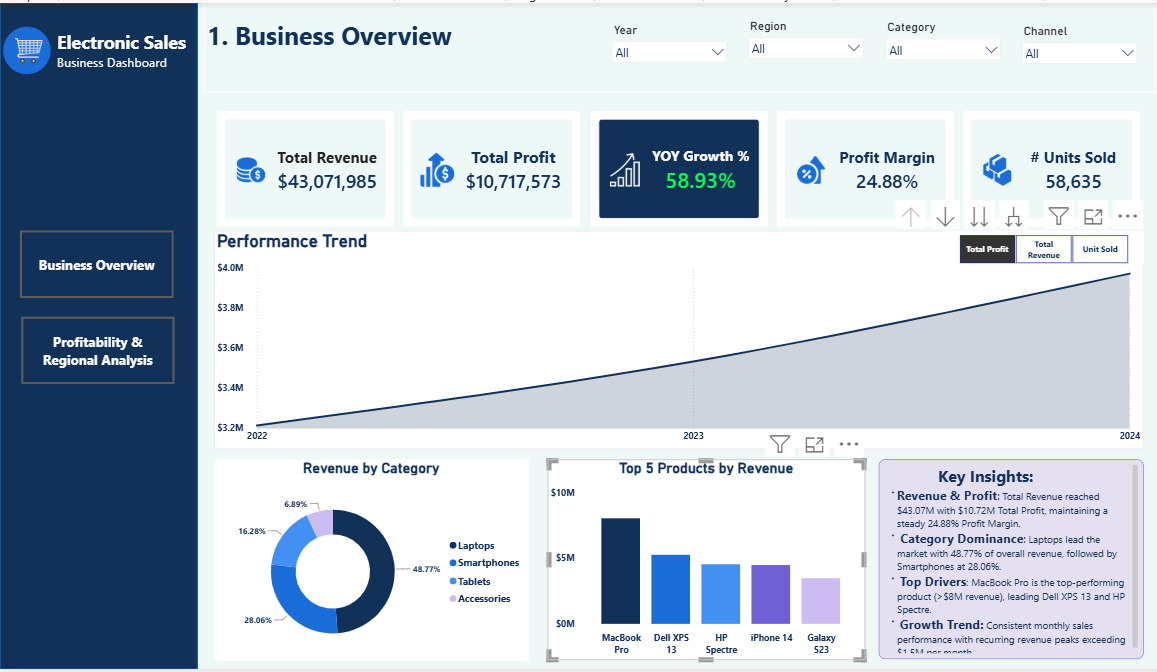

What the dashboard file says about the page in this screenshot:
{"tool":"powerbi","page":{"name":"Business Overview ","canvas":[1750,1000],"ordinal":0},"visuals":[{"type":"shape","box":[0,0,296.4,999.9],"z":0},{"type":"shape","box":[305.8,0,1429.6,135.1],"z":1000},{"type":"image","box":[0,35.6,80.7,71.3],"z":2000},{"type":"textbox","box":[80.7,35.6,215.7,116.3],"z":3000},{"type":"textbox","box":[305.8,18.8,420.2,88.2],"z":4000},{"type":"slicer","fields":{"Values":["Calender_tbl.Year"]},"box":[908,23.8,193.2,101.3],"z":5000},{"type":"slicer","fields":{"Values":["Data.Region"]},"box":[1113.1,18.8,193.2,101.3],"z":6000},{"type":"slicer","fields":{"Values":["Data.Category"]},"box":[1318.3,21.3,193.2,101.3],"z":7000},{"type":"slicer","fields":{"Values":["Data.Sales Channel"]},"box":[1523.4,26.3,193.2,101.3],"z":8000},{"type":"cardVisual","fields":{"Data":["Measures_tbl.Total Revenue"]},"box":[320.8,157.6,275.8,183.9],"z":9000},{"type":"cardVisual","fields":{"Data":["Measures_tbl.YOY Growth %"]},"box":[880.8,157.6,275.8,183.9],"z":10000},{"type":"cardVisual","fields":{"Data":["Measures_tbl.Total Profit"]},"box":[600.8,157.6,275.8,183.9],"z":11000},{"type":"cardVisual","fields":{"Data":["Measures_tbl.Prrofit Margin"]},"box":[1160.8,157.6,275.8,183.9],"z":12000},{"type":"cardVisual","fields":{"Data":["Measures_tbl.Unit Sold"]},"box":[1440.8,157.6,275.8,183.9],"z":13000},{"type":"areaChart","title":"Performance Trend ","fields":{"Category":["Calender_tbl.Year","Calender_tbl.Quarter","Calender_tbl.Month","Calender_tbl.Day"],"Y":["Measures_tbl.Total Profit"]},"box":[320.8,341.4,1395.8,328.3],"z":14000},{"type":"donutChart","title":"Revenue by Category","fields":{"Category":["Data.Category"],"Y":["Measures_tbl.Total Revenue"]},"box":[320.8,684.8,472.8,302],"z":15000},{"type":"columnChart","title":"Top 5 Products by Revenue","fields":{"Category":["Data.Product Name"],"Y":["Measures_tbl.Total Revenue"]},"box":[821.7,684.8,476.5,302],"z":16000},{"type":"textbox","box":[1318.9,684.8,397.7,300.2],"z":17000},{"type":"actionButton","title":"Business Overview ","box":[30,341.4,230.8,101.3],"z":18000},{"type":"actionButton","box":[31.9,470.9,230,101],"z":19000},{"type":"slicer","fields":{"Values":["Select Metric.Select Metric"]},"box":[1414.6,341.4,302,50.7],"z":20000}]}

Visuals, with their boxes on the page's 1750x1000 design canvas (x1, y1, x2, y2). These are canvas units, not pixel positions in the 1157x672 screenshot, which may show the page scaled, cropped or inside an application window:
shape: 0:0:296:1000
shape: 306:0:1735:135
image: 0:36:81:107
textbox: 81:36:296:152
textbox: 306:19:726:107
slicer - Calender_tbl.Year: 908:24:1101:125
slicer - Data.Region: 1113:19:1306:120
slicer - Data.Category: 1318:21:1512:123
slicer - Data.Sales Channel: 1523:26:1717:128
cardVisual - Measures_tbl.Total Revenue: 321:158:597:342
cardVisual - Measures_tbl.YOY Growth %: 881:158:1157:342
cardVisual - Measures_tbl.Total Profit: 601:158:877:342
cardVisual - Measures_tbl.Prrofit Margin: 1161:158:1437:342
cardVisual - Measures_tbl.Unit Sold: 1441:158:1717:342
"Performance Trend " areaChart: 321:341:1717:670
"Revenue by Category" donutChart: 321:685:794:987
"Top 5 Products by Revenue" columnChart: 822:685:1298:987
textbox: 1319:685:1717:985
"Business Overview " actionButton: 30:341:261:443
actionButton: 32:471:262:572
slicer - Select Metric.Select Metric: 1415:341:1717:392
